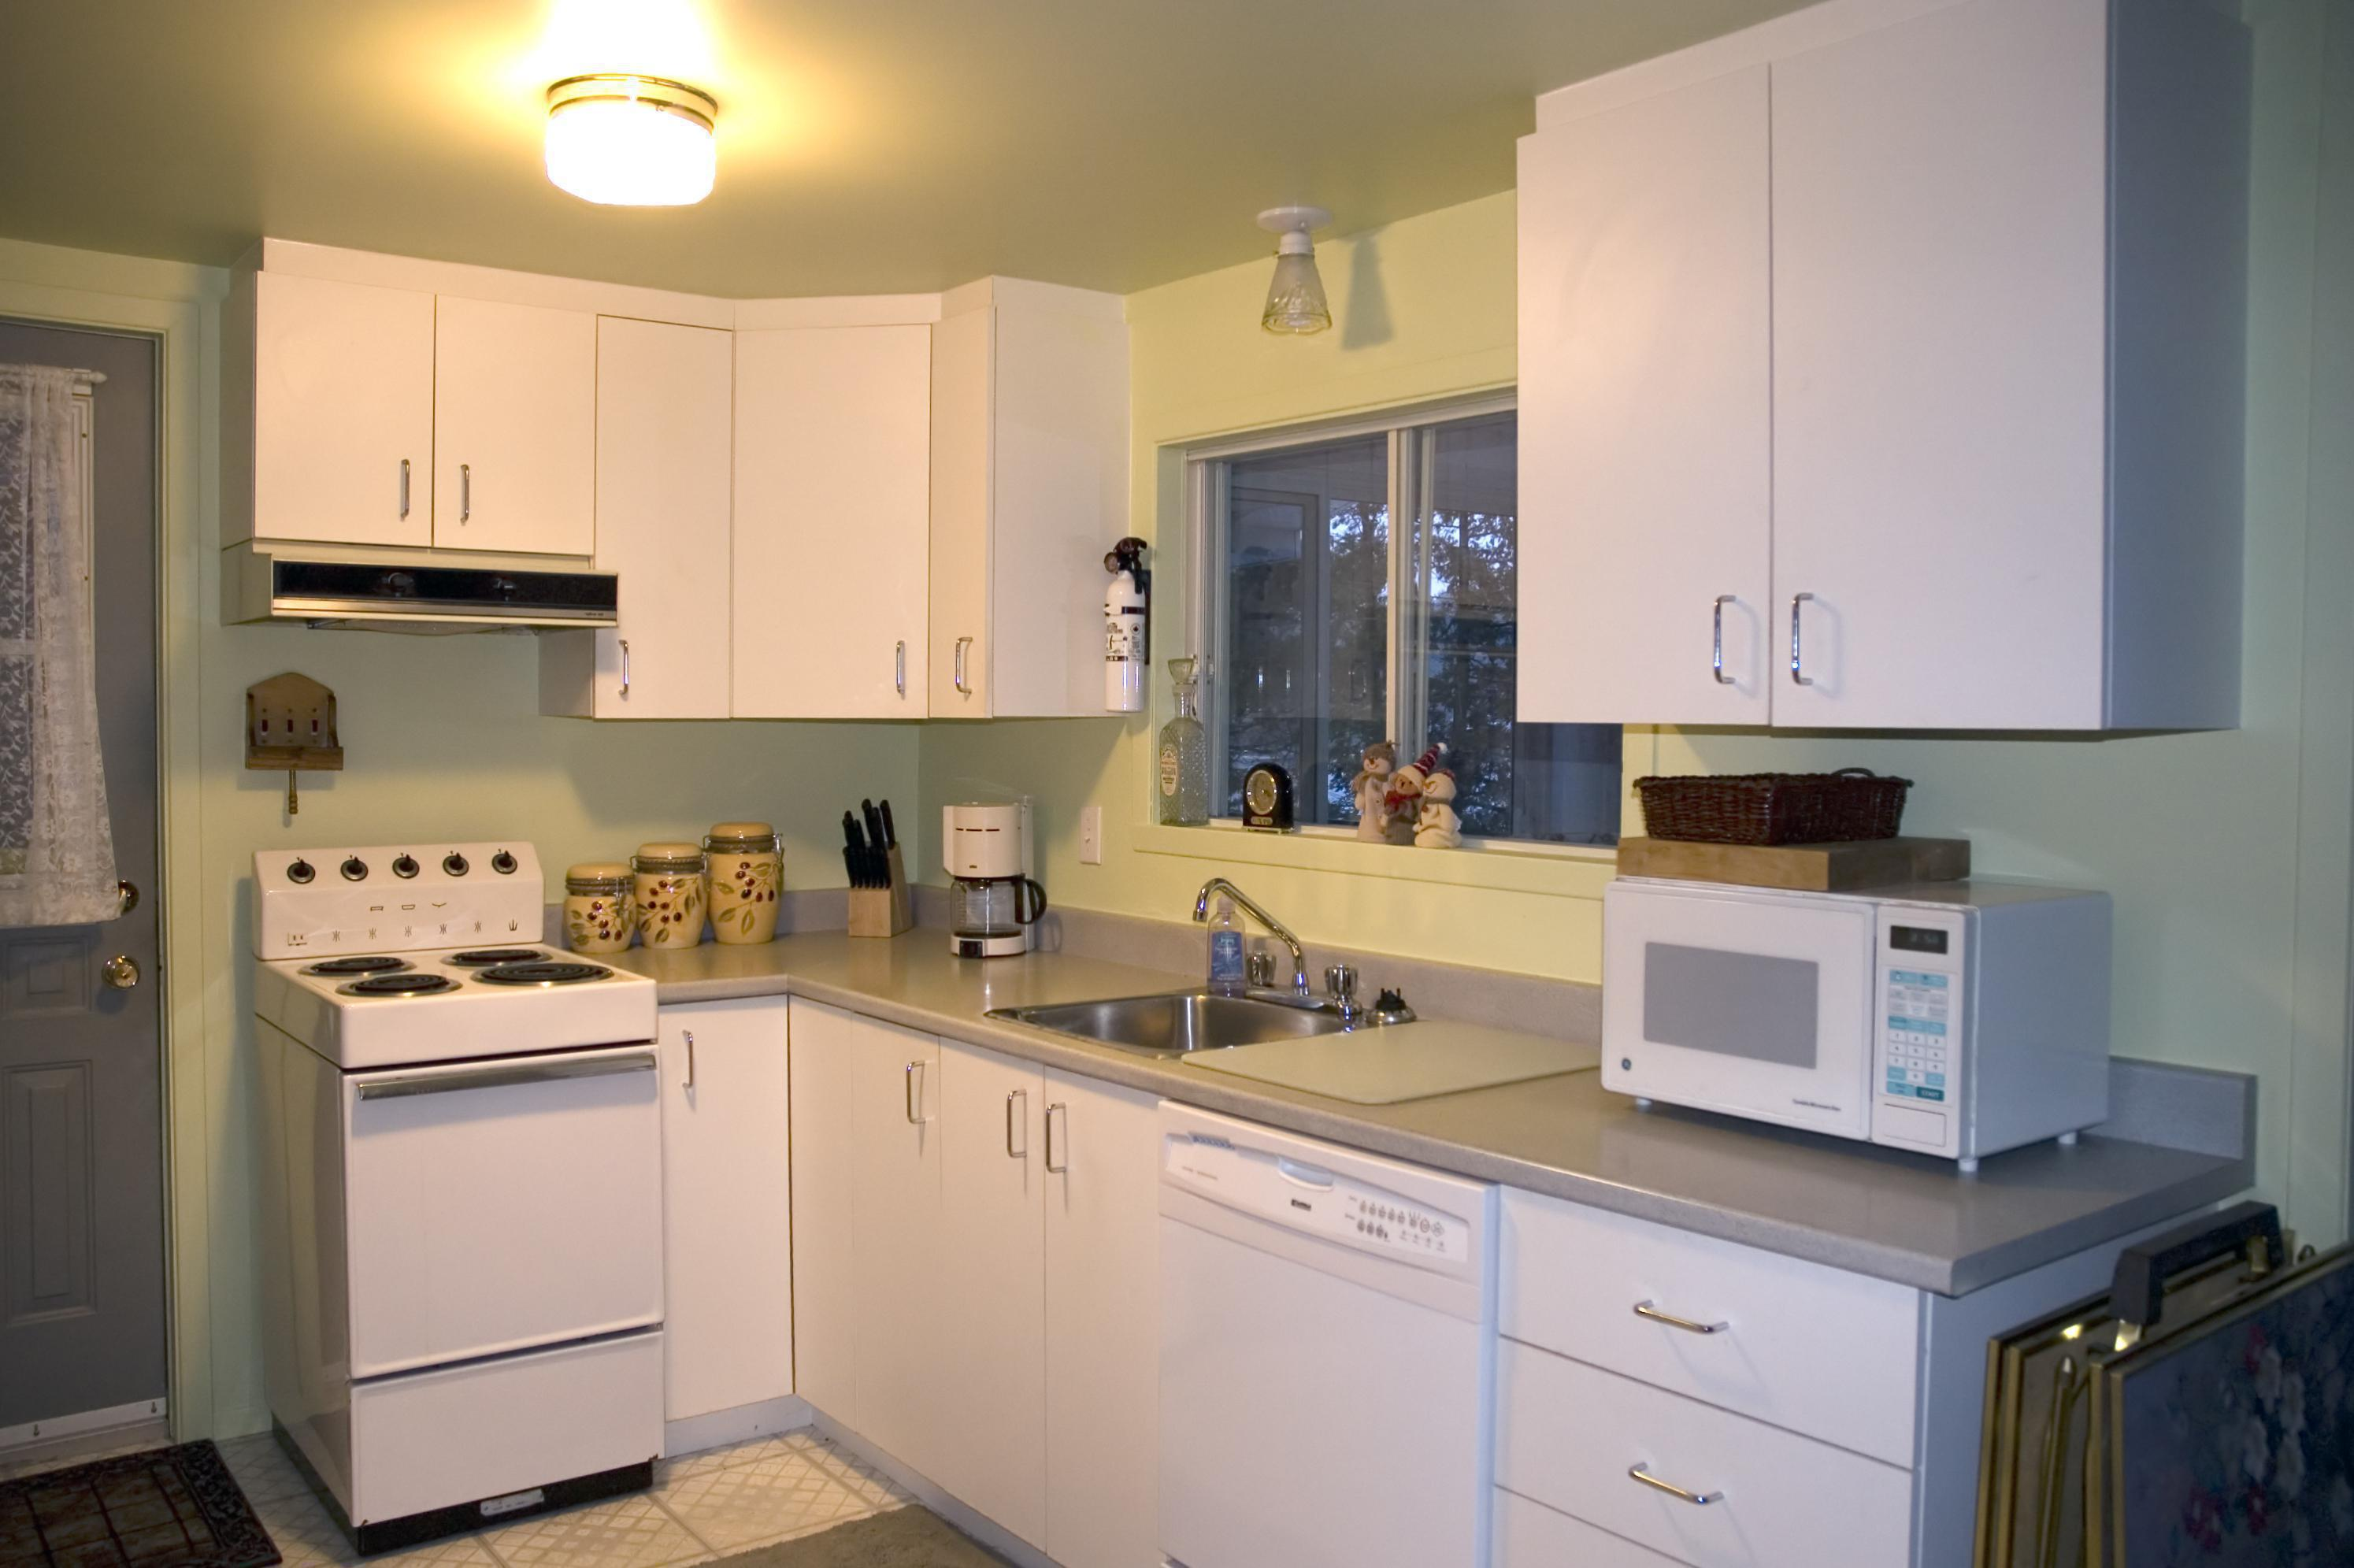Electrodomestico: (250, 829, 658, 1556), (1141, 1085, 1496, 1563)
Lavaplatos: (982, 861, 1411, 1069)
Puerta: (5, 318, 177, 1472)
Ventana: (1166, 455, 1601, 835)
